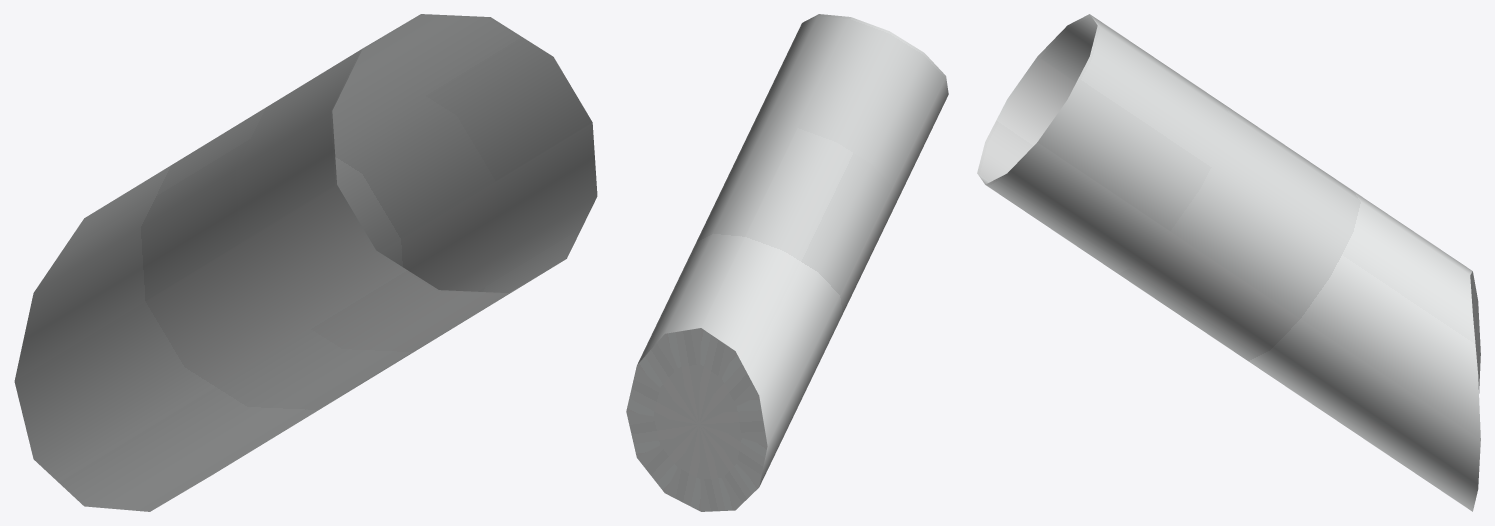
The model's file is luminairearm_truss10ftstraightdouble_c9.obj.
3 renders of one model, left to right at view 1: azimuth 30°, elevation 25°; view 2: azimuth 150°, elevation 25°; view 3: azimuth 270°, elevation 25°, orthographic. The views are drawn at different scales.
Parts seen in each view (by area): view 1: luminairearm_truss10ftstraightdouble_c9; view 2: luminairearm_truss10ftstraightdouble_c9; view 3: luminairearm_truss10ftstraightdouble_c9.
Boxes of the visible parts, x1=… form: luminairearm_truss10ftstraightdouble_c9: x1=14, y1=14, x2=597, y2=511; luminairearm_truss10ftstraightdouble_c9: x1=626, y1=14, x2=948, y2=511; luminairearm_truss10ftstraightdouble_c9: x1=977, y1=14, x2=1480, y2=511.
Size of the model in its own units: 0.1562 by 0.4069 by 0.3882.
